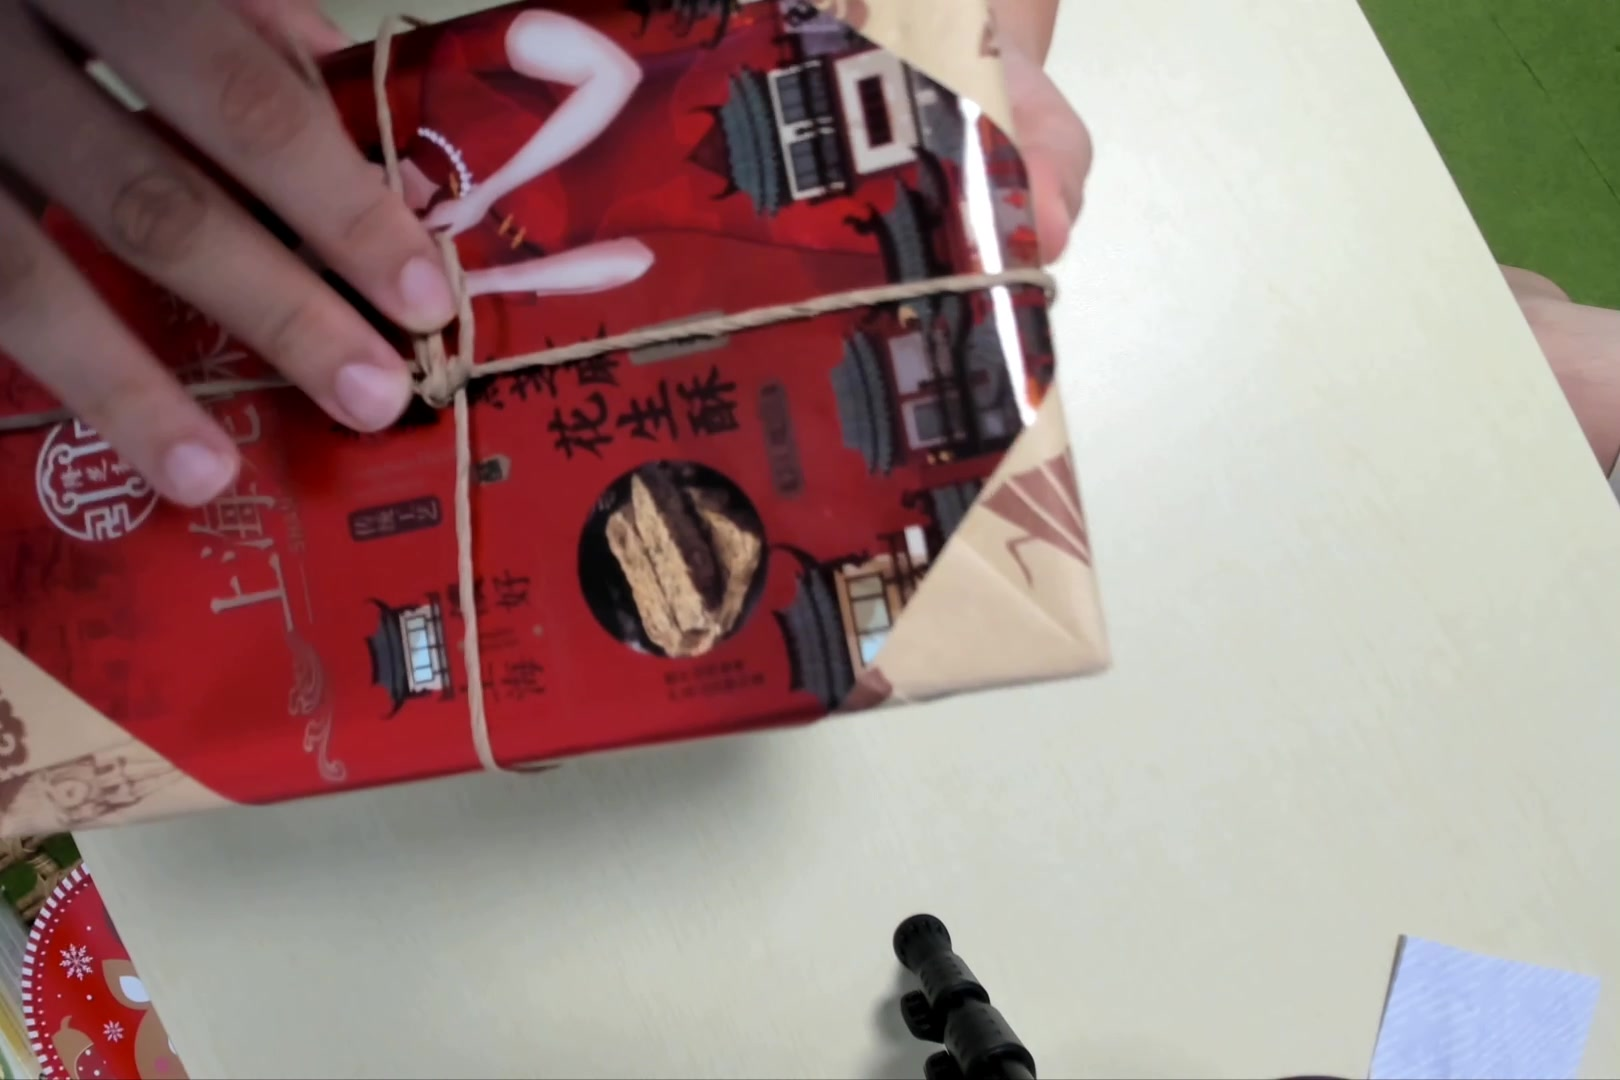BiscuitsCrackersCookies_400-499g_NonHalal_NonHealthy: (8, 2, 1111, 834)
